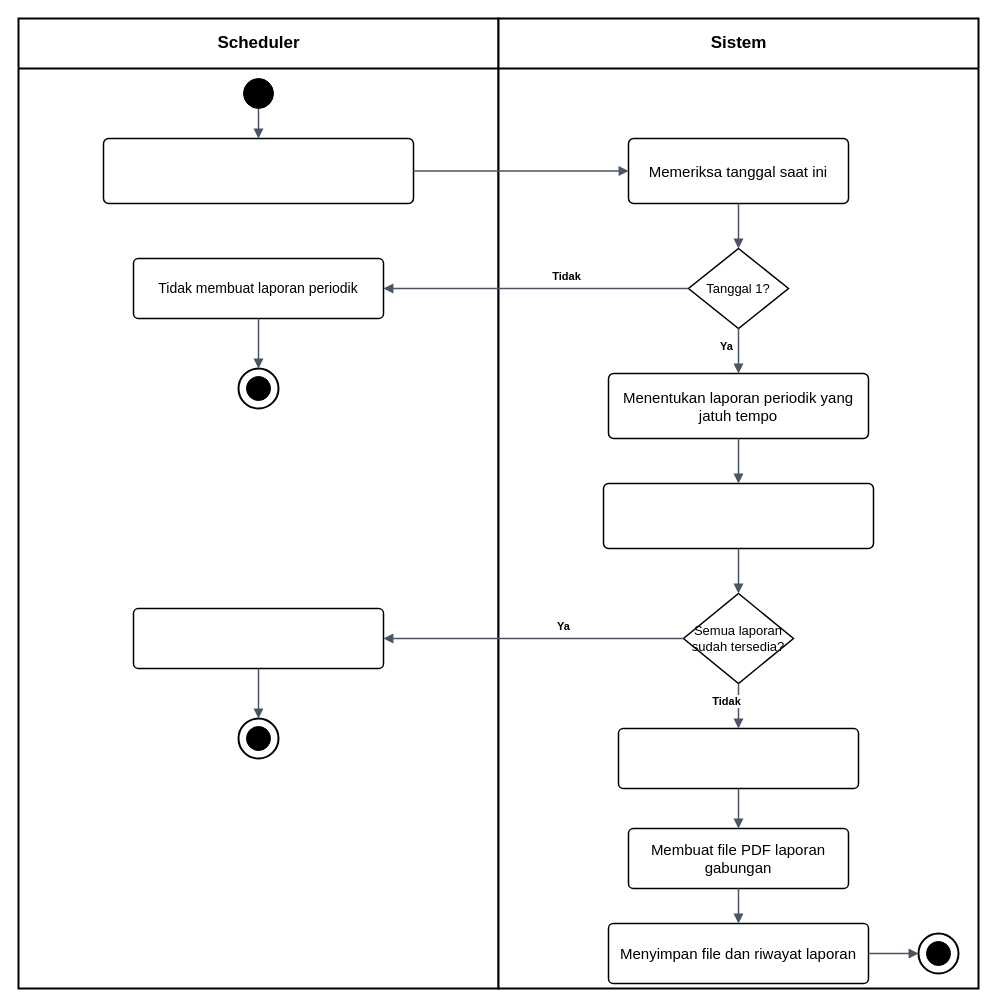
This 996x1006 diagram has some shape labels left out. Each missing label, with the centre of its shape:
Memeriksa ketersediaan setiap laporan periode: pixel 738 515
Mengambil data untuk laporan yang belum tersedia: pixel 738 758
Menjalankan proses setiap hari pukul 00.10: pixel 258 170
Tidak membuat laporan duplikat: pixel 258 638
